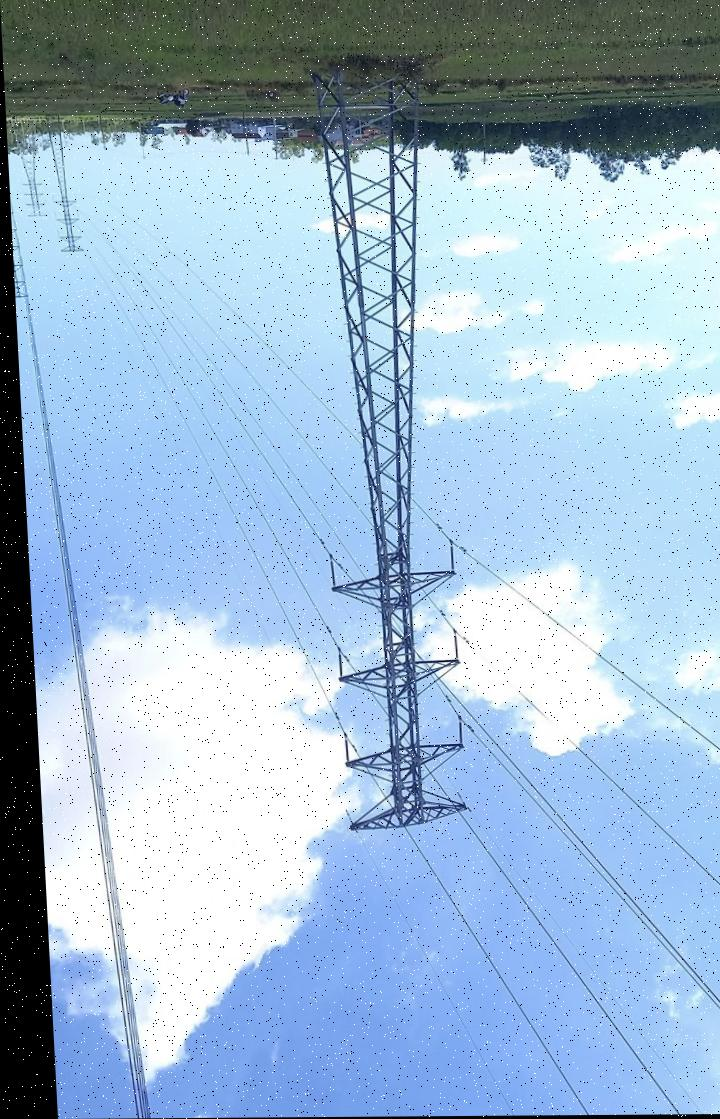tower: (298, 61, 471, 833)
